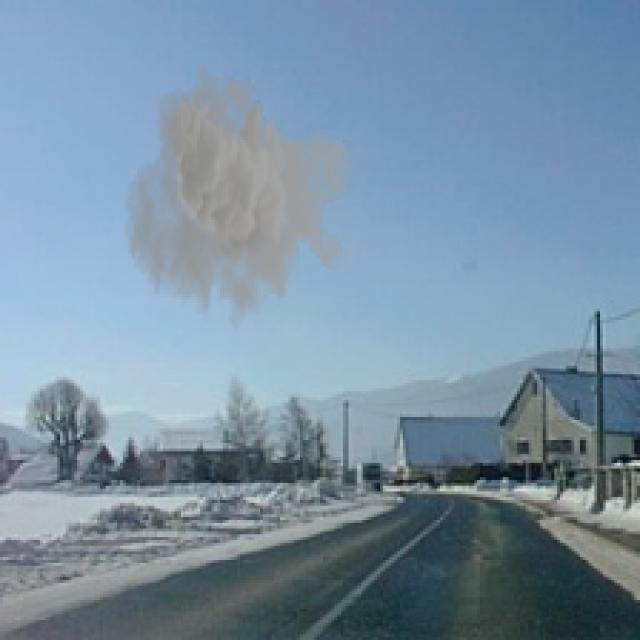Smoke: (123, 63, 354, 343)
